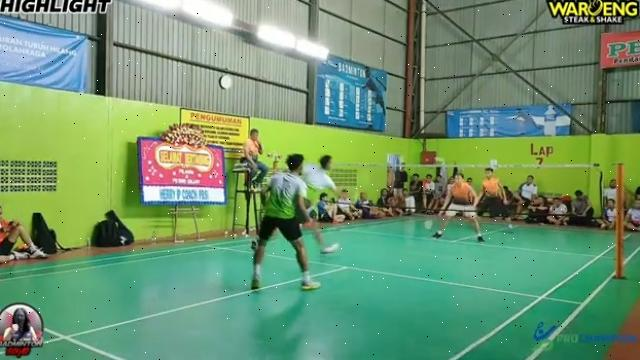Shuttlecock: (432, 154, 446, 166)
